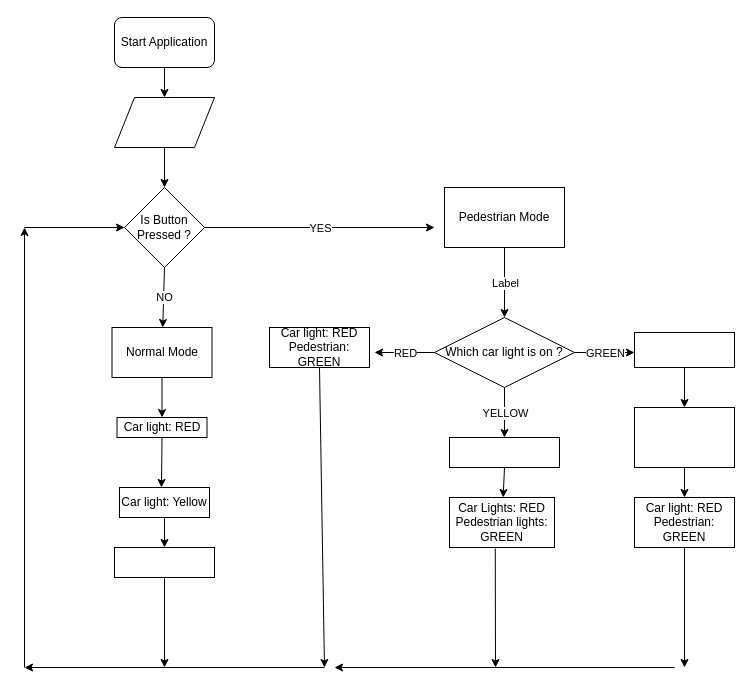
Some shapes in this 752 by 693 pixel diagram are drawn without their labels. The shapes that lost their labels are listed below. From the top down, each one's centre as x and y in pixels, then its label:
the point at 164,122: Input Button
the point at 684,350: Pedestrian light: RED
the point at 504,452: WAIT for 5 seconds
the point at 684,437: Car light: YELLOW Pedestrian light: Yellow
the point at 164,562: Car light: GREEN
